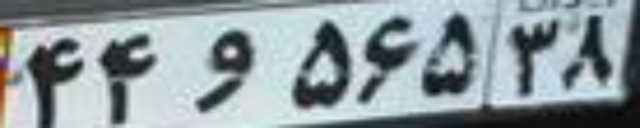3: (505, 16, 558, 97)
4: (21, 39, 84, 125), (100, 34, 158, 126)
5: (420, 11, 485, 97), (288, 18, 350, 107)
6: (360, 16, 417, 105)
8: (561, 14, 618, 89)
vav: (194, 28, 256, 111)
